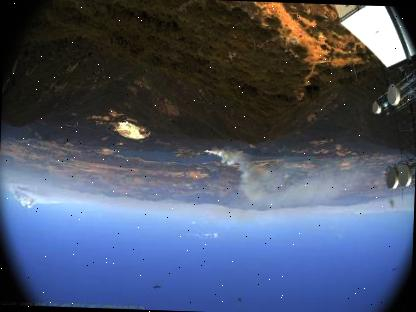smoke: (199, 147, 341, 211)
